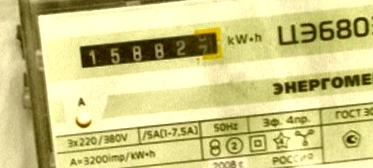1: (88, 48, 99, 66)
2: (175, 38, 187, 56)
5: (109, 46, 122, 64)
7: (198, 42, 210, 56)
8: (131, 43, 144, 61), (154, 42, 166, 58)
screen: (73, 24, 230, 73)
